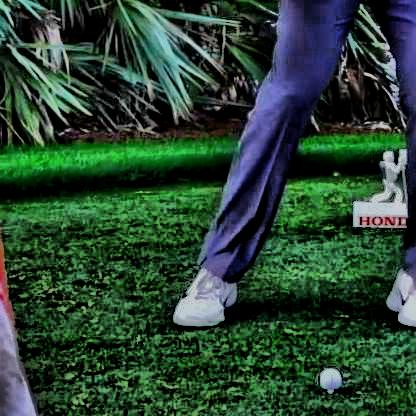golfball: (314, 363, 339, 388)
